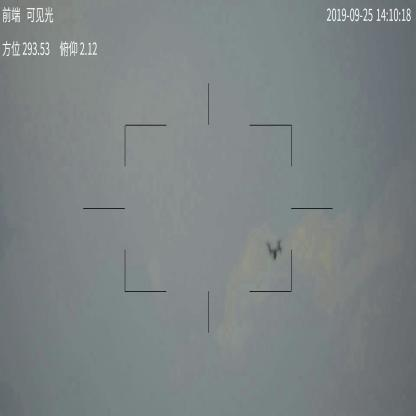uav: (267, 238, 284, 265)
